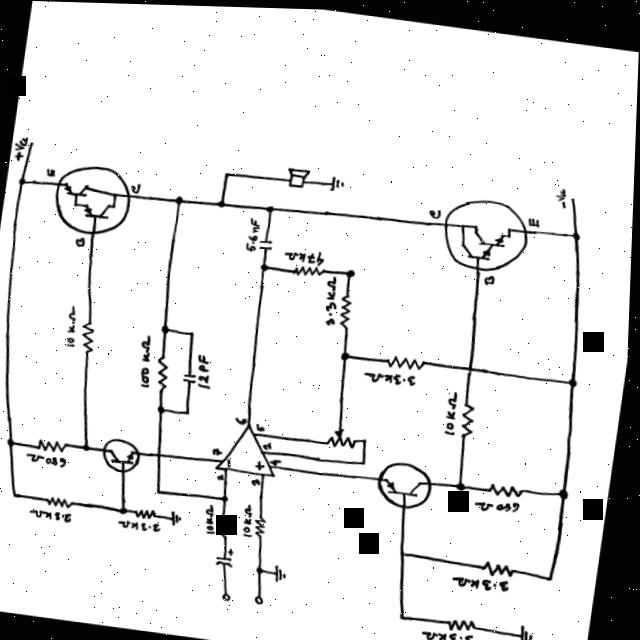capacitor: (285, 162, 312, 188), (218, 543, 241, 567), (183, 368, 200, 384), (258, 235, 276, 250)
crossover: (466, 359, 479, 371), (156, 447, 168, 458)
ground: (521, 619, 540, 640), (329, 171, 347, 191), (276, 561, 293, 582), (172, 508, 187, 525)
junction: (457, 475, 471, 489), (345, 264, 358, 277), (561, 483, 574, 495), (8, 435, 20, 447), (571, 225, 583, 237), (569, 372, 581, 384), (222, 489, 234, 501), (260, 259, 272, 270), (162, 321, 173, 333), (175, 193, 186, 205), (83, 440, 95, 451), (121, 503, 133, 514), (217, 196, 228, 207), (159, 402, 170, 413), (18, 175, 29, 186), (266, 201, 277, 212), (401, 545, 412, 556), (342, 347, 353, 358), (259, 562, 269, 573), (549, 569, 560, 579), (185, 405, 195, 415), (189, 326, 199, 336), (402, 609, 411, 619), (13, 489, 23, 498), (223, 168, 232, 177), (158, 486, 166, 494), (364, 434, 372, 441), (363, 456, 370, 462)
resistor: (386, 349, 430, 370), (328, 422, 361, 447), (155, 351, 175, 392), (79, 317, 101, 354), (483, 555, 521, 576), (338, 288, 357, 327), (37, 434, 73, 454), (461, 398, 480, 435), (491, 477, 528, 495), (292, 259, 327, 277), (448, 612, 482, 630), (47, 492, 77, 509), (220, 510, 236, 538), (255, 512, 272, 536), (134, 504, 161, 519)
terminal: (225, 588, 236, 600), (258, 591, 268, 603), (570, 190, 579, 200), (28, 139, 37, 146)
text: (137, 330, 161, 389), (455, 569, 515, 591), (363, 364, 421, 386), (322, 273, 343, 325), (477, 492, 525, 512), (424, 623, 480, 640), (195, 349, 218, 388), (445, 386, 464, 432), (284, 244, 327, 264), (120, 515, 167, 533), (32, 505, 78, 523), (64, 302, 82, 347), (28, 450, 71, 467), (245, 214, 264, 251), (243, 501, 259, 537), (205, 501, 222, 534), (14, 134, 30, 162), (555, 183, 571, 205), (528, 211, 544, 226), (483, 269, 498, 283), (429, 203, 444, 216), (130, 180, 143, 193), (75, 234, 88, 247), (213, 443, 227, 455), (235, 412, 250, 423), (256, 457, 268, 469), (257, 418, 269, 430), (272, 453, 286, 463), (253, 474, 264, 486), (265, 437, 276, 449), (46, 165, 58, 176), (219, 469, 228, 479), (229, 456, 236, 465)
transistor: (436, 189, 538, 277), (51, 159, 137, 240), (377, 453, 439, 510), (102, 433, 146, 474)
